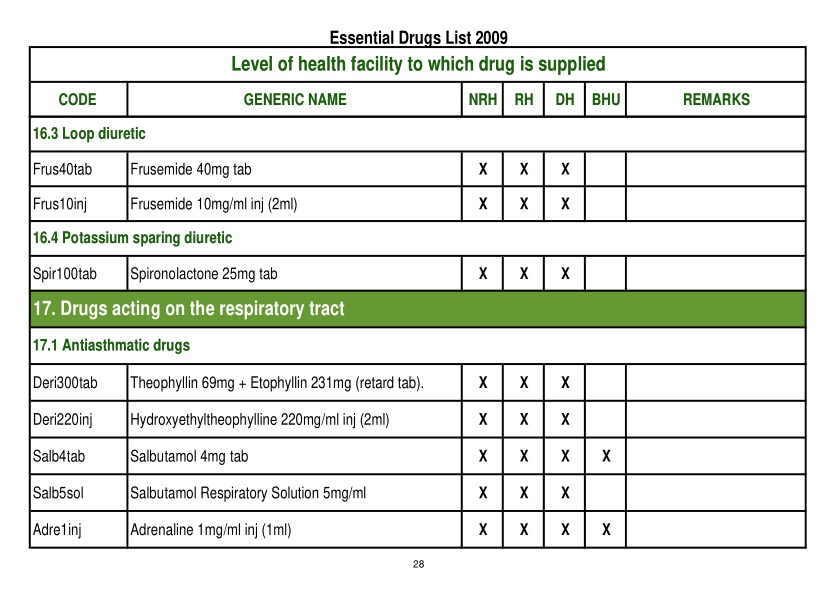merged_cells: (27, 45, 807, 549)
